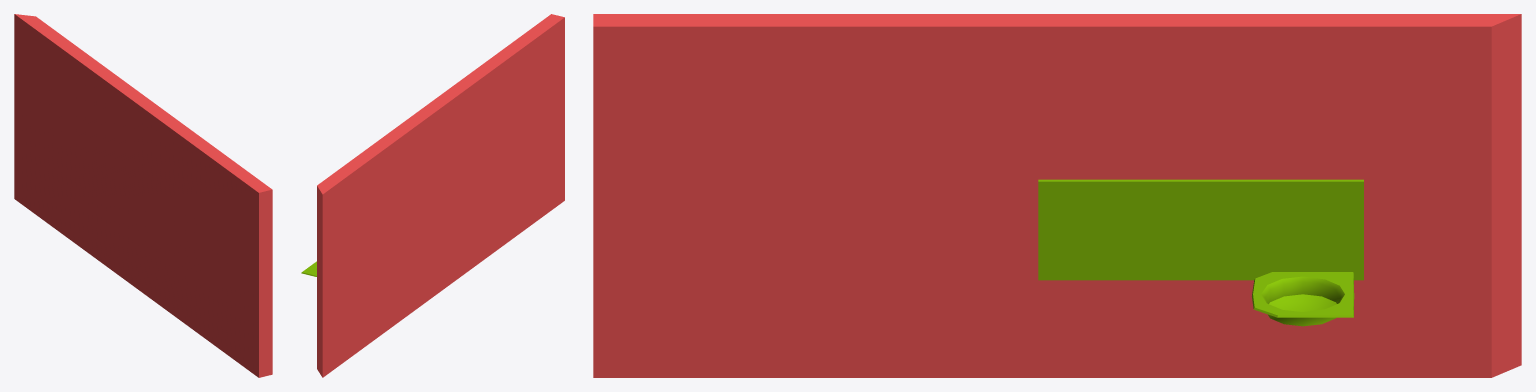
The model's file is rakovina.FBX.
The picture shows the model from 3 angles, left to right: view 1: azimuth 30°, elevation 25°; view 2: azimuth 150°, elevation 25°; view 3: azimuth 270°, elevation 25°; orthographic projection. The views are drawn at different scales.
Parts seen in each view (by area): view 1: Box003; view 2: Box003; view 3: Box003, Box008, OilTank001.
Part boxes in pixels (x1=…): Box003: x1=14, y1=14, x2=272, y2=377; Box003: x1=317, y1=14, x2=564, y2=377; Box003: x1=593, y1=14, x2=1521, y2=377; Box008: x1=1038, y1=179, x2=1363, y2=280; OilTank001: x1=1252, y1=272, x2=1354, y2=326.
Bounding box in the file's own units: 14.5 × 38.85 × 93.
